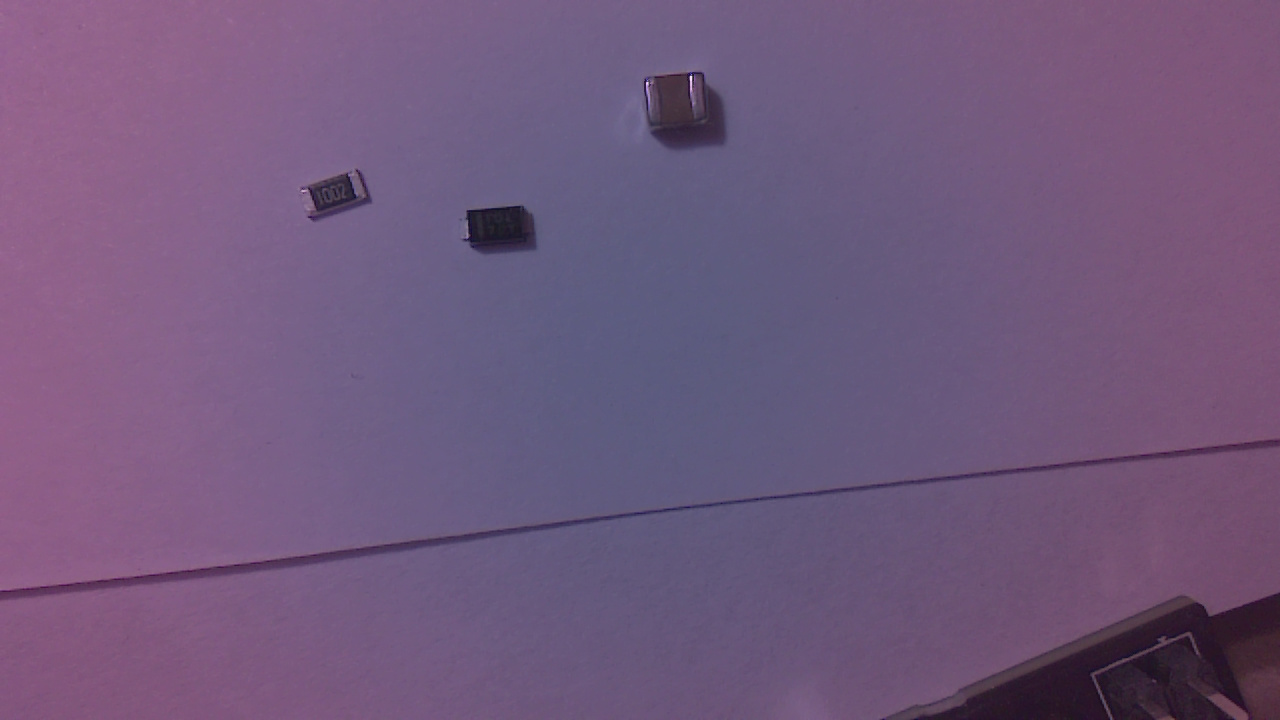Condensator: (643, 73, 715, 142)
Diode: (464, 205, 541, 250)
Resistor: (305, 171, 375, 226)
